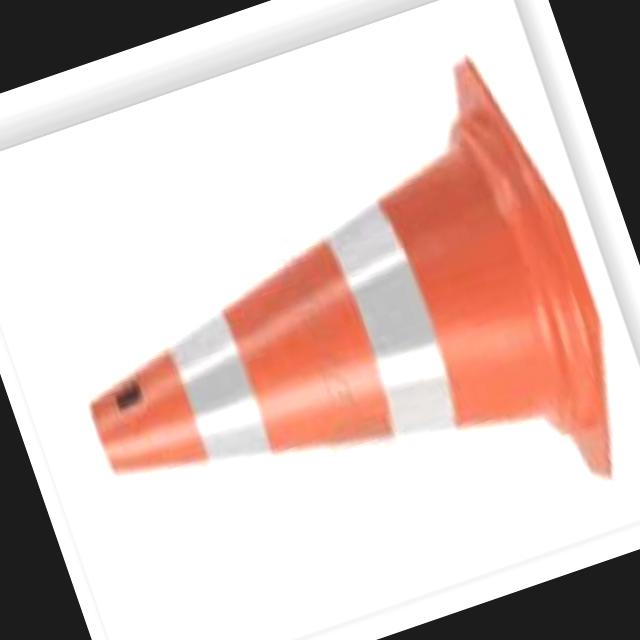cone: (19, 39, 640, 612)
